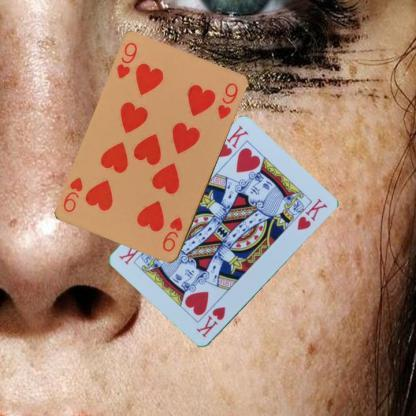9h: (113, 40, 138, 82), (160, 214, 184, 252)
Kh: (216, 124, 250, 160), (193, 304, 227, 339)
